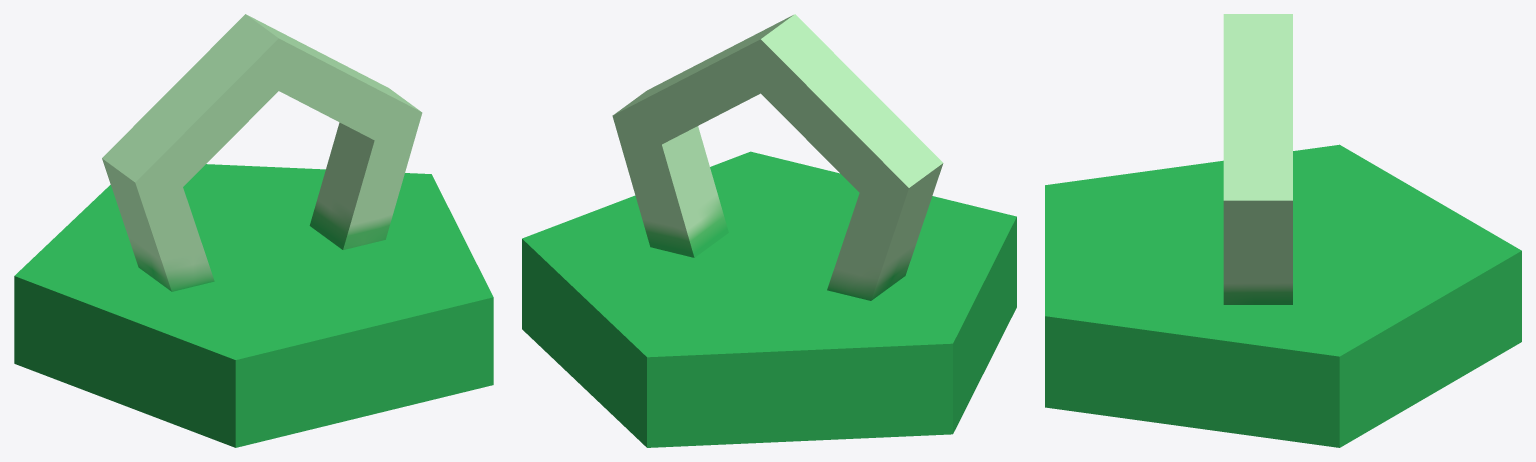
File: smokk.fbx
The picture shows the model from 3 angles, left to right: view 1: azimuth 30°, elevation 25°; view 2: azimuth 150°, elevation 25°; view 3: azimuth 270°, elevation 25°; orthographic projection. The views are drawn at different scales.
Parts seen in each view (by area): view 1: Cylinder.003; view 2: Cylinder.003; view 3: Cylinder.003.
Boxes of the visible parts, <box> form: Cylinder.003: <box>14,14,493,447</box>; Cylinder.003: <box>522,14,1016,447</box>; Cylinder.003: <box>1045,14,1521,447</box>.
Size of the model in its own units: 7.39 by 5.33 by 7.02.
1 material, 1 textured.
